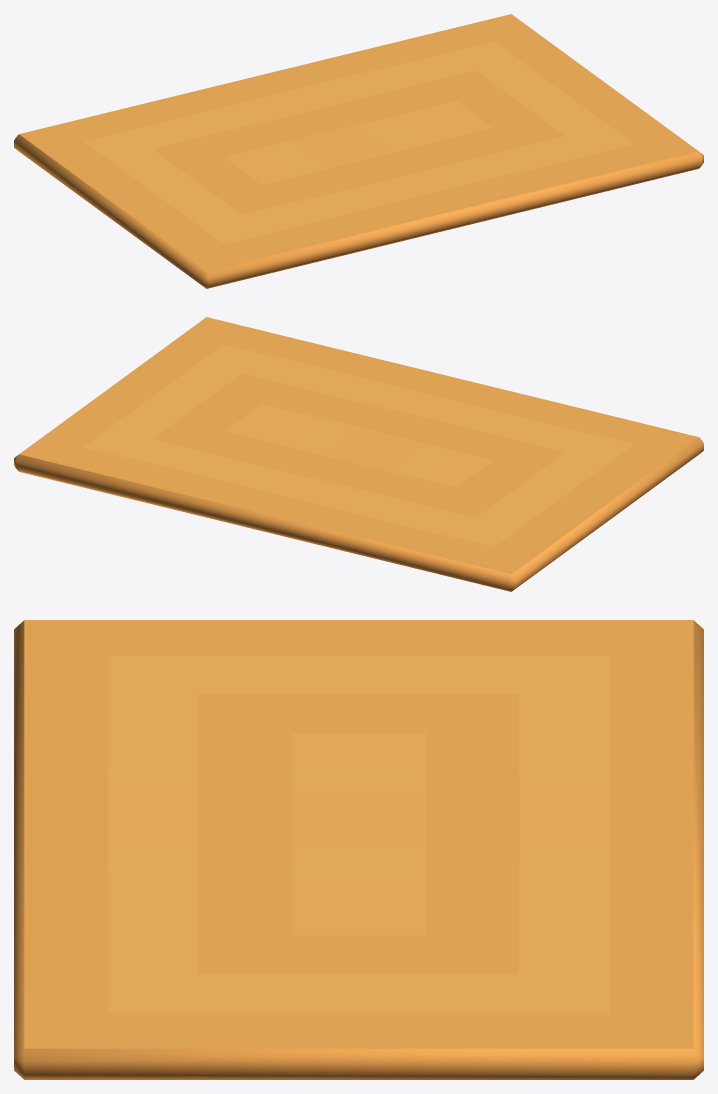
The model's file is kay-tapete-listrado.gltf.
The picture shows the model from 3 angles, top to bottom: view 1: azimuth 30°, elevation 25°; view 2: azimuth 150°, elevation 25°; view 3: azimuth 270°, elevation 25°; orthographic projection. The views are drawn at different scales.
Visible parts, largest first — view 1: rug_rectangle_stripes_A; view 2: rug_rectangle_stripes_A; view 3: rug_rectangle_stripes_A.
Boxes of the visible parts, left/top/right/bottom form: rug_rectangle_stripes_A: left=14, top=14, right=703, bottom=288; rug_rectangle_stripes_A: left=14, top=317, right=703, bottom=591; rug_rectangle_stripes_A: left=14, top=620, right=703, bottom=1079.
Bounding box in the file's own units: 1.95 × 0.065 × 1.3.
1 material, 1 textured.
